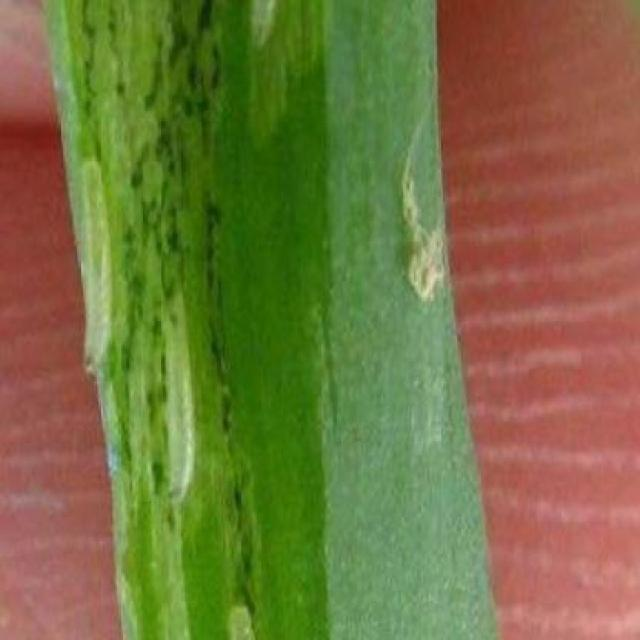whorl-maggot: (77, 137, 118, 386), (154, 278, 195, 512)
